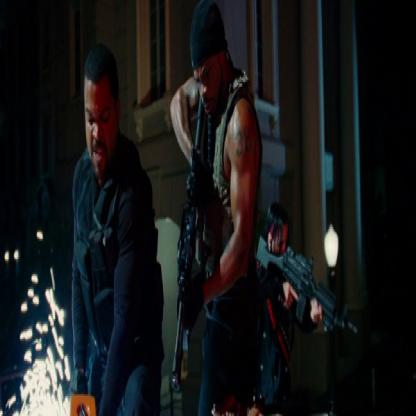Guns: (168, 68, 214, 414), (255, 229, 360, 344)
